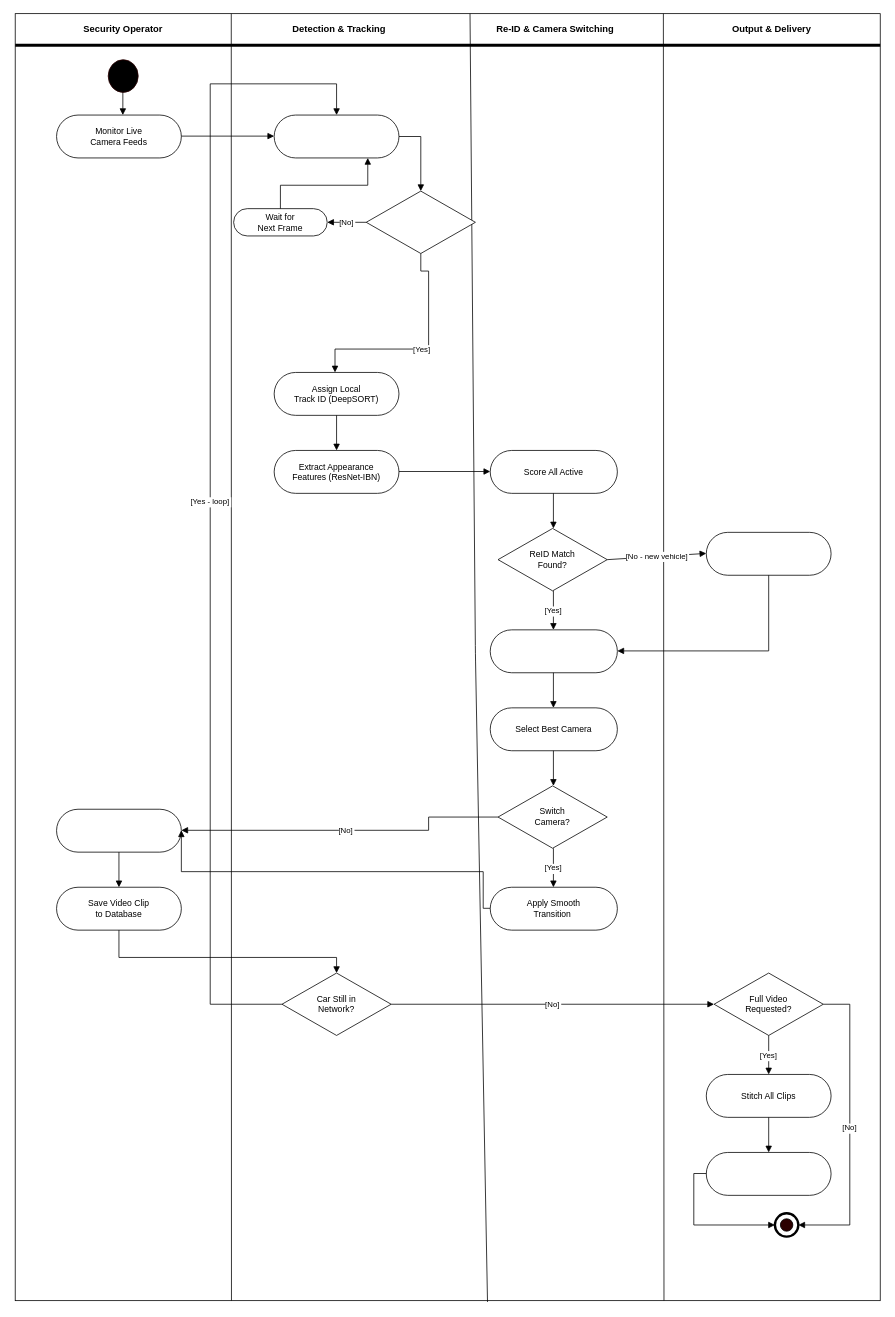
This 895x1317 diagram has some shape labels left out. The centre of each missing label's shape, as x and y in pixels:
Assign New Global Vehicle ID: the point at 768,553
Capture Frame from Camera: the point at 336,136
Link to Existing Global Vehicle ID: the point at 553,651
Send Compiled Video via Email (SMTP): the point at 768,1173
Update Live View UI: the point at 118,830
Vehicle Detected?: the point at 420,222
